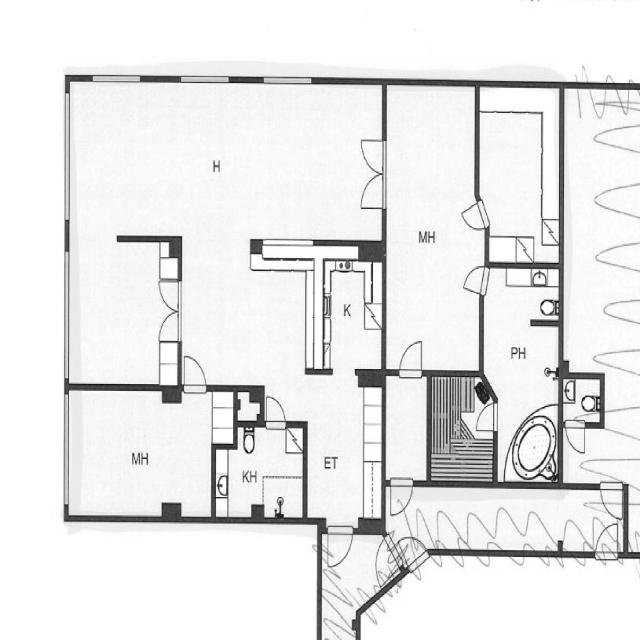door: (356, 135, 387, 210), (156, 275, 183, 341), (326, 523, 356, 568), (398, 337, 426, 377), (388, 476, 414, 516), (472, 401, 500, 438), (182, 352, 208, 391), (598, 482, 624, 521), (564, 420, 588, 458), (464, 265, 489, 300), (461, 196, 484, 231), (265, 394, 286, 428), (628, 482, 640, 508)
window: (60, 391, 72, 510), (89, 70, 144, 88), (176, 73, 231, 87), (260, 74, 314, 88)
zone: (66, 81, 391, 238), (385, 85, 481, 369), (569, 88, 640, 389), (65, 388, 226, 518), (180, 238, 315, 387), (68, 239, 178, 389), (286, 374, 382, 526), (478, 87, 561, 261), (310, 239, 384, 371), (482, 265, 562, 380), (213, 422, 304, 519), (429, 372, 495, 482), (384, 372, 427, 483), (561, 376, 604, 426), (625, 484, 640, 556), (235, 388, 262, 422)
